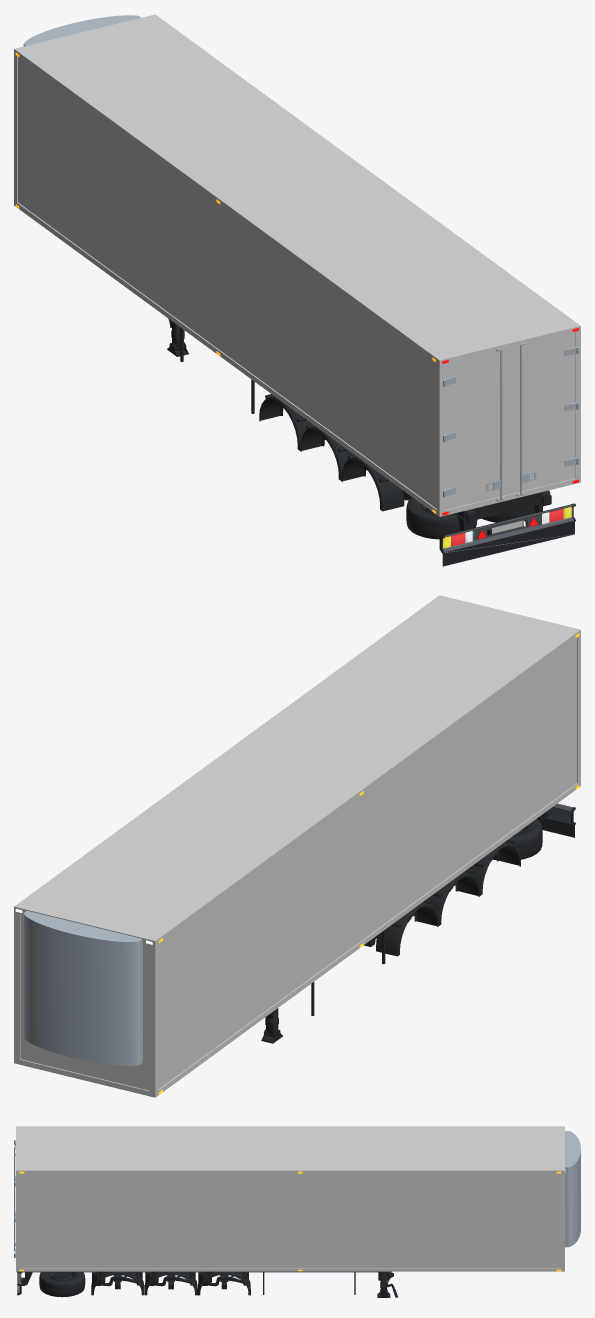
The model's file is trailer.anchored.glb.
3 views of the same model, one above another, from view 1: azimuth 30°, elevation 25°; view 2: azimuth 150°, elevation 25°; view 3: azimuth 270°, elevation 25° (orthographic). The views are drawn at different scales.
Parts seen in each view (by area): view 1: box01_nagel_auflieger_0_0, kotfluegel_ref map [spec]_0_3, ersatzraed_pneu2 [spec]_0_1, box01_ref map [sec,en_0_0, Box_ref map [spec]_0_3, Stossstang_Matte_ FFFFFFFF_0_0, box01_tk [spec]_0_0; view 2: box01_nagel_auflieger_0_0, box01_tk [spec]_0_0, kotfluegel_ref map [spec]_0_3, ersatzraed_pneu2 [spec]_0_1; view 3: box01_nagel_auflieger_0_0, box01_tk [spec]_0_0, kotfluegel_ref map [spec]_0_3, ersatzraed_pneu2 [spec]_0_1, Federung_Matte_ FF000013_0_3, Box_ref map [spec]_0_3.
Boxes of the visible parts, box(x1,y1,x2,y2) form: box01_nagel_auflieger_0_0: box(14, 14, 580, 566); kotfluegel_ref map [spec]_0_3: box(259, 394, 404, 511); ersatzraed_pneu2 [spec]_0_1: box(406, 497, 535, 539); box01_ref map [sec,en_0_0: box(443, 342, 579, 501); Box_ref map [spec]_0_3: box(180, 327, 551, 530); Stossstang_Matte_ FFFFFFFF_0_0: box(442, 504, 573, 552); box01_tk [spec]_0_0: box(23, 15, 141, 46); box01_nagel_auflieger_0_0: box(14, 595, 580, 1097); box01_tk [spec]_0_0: box(23, 911, 142, 1065); kotfluegel_ref map [spec]_0_3: box(376, 839, 520, 956); ersatzraed_pneu2 [spec]_0_1: box(493, 819, 542, 860); box01_nagel_auflieger_0_0: box(16, 1126, 564, 1271); box01_tk [spec]_0_0: box(565, 1131, 580, 1247); kotfluegel_ref map [spec]_0_3: box(91, 1271, 250, 1295); ersatzraed_pneu2 [spec]_0_1: box(39, 1272, 85, 1297); Federung_Matte_ FF000013_0_3: box(102, 1272, 248, 1289); Box_ref map [spec]_0_3: box(17, 1271, 391, 1294).
Size of the model in its own units: 2.59 by 3.64 by 13.73.
